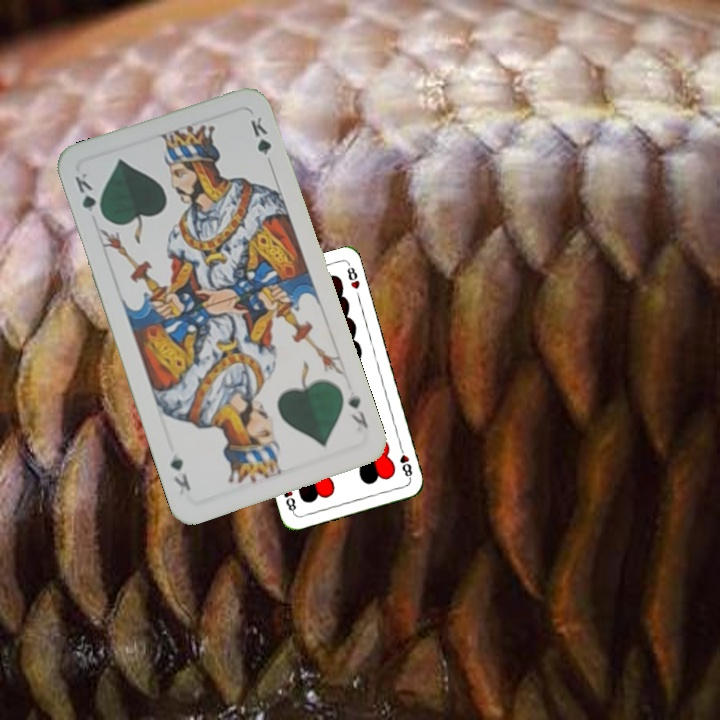GK: (70, 168, 107, 222), (344, 387, 371, 431)
H8: (395, 442, 415, 482)
